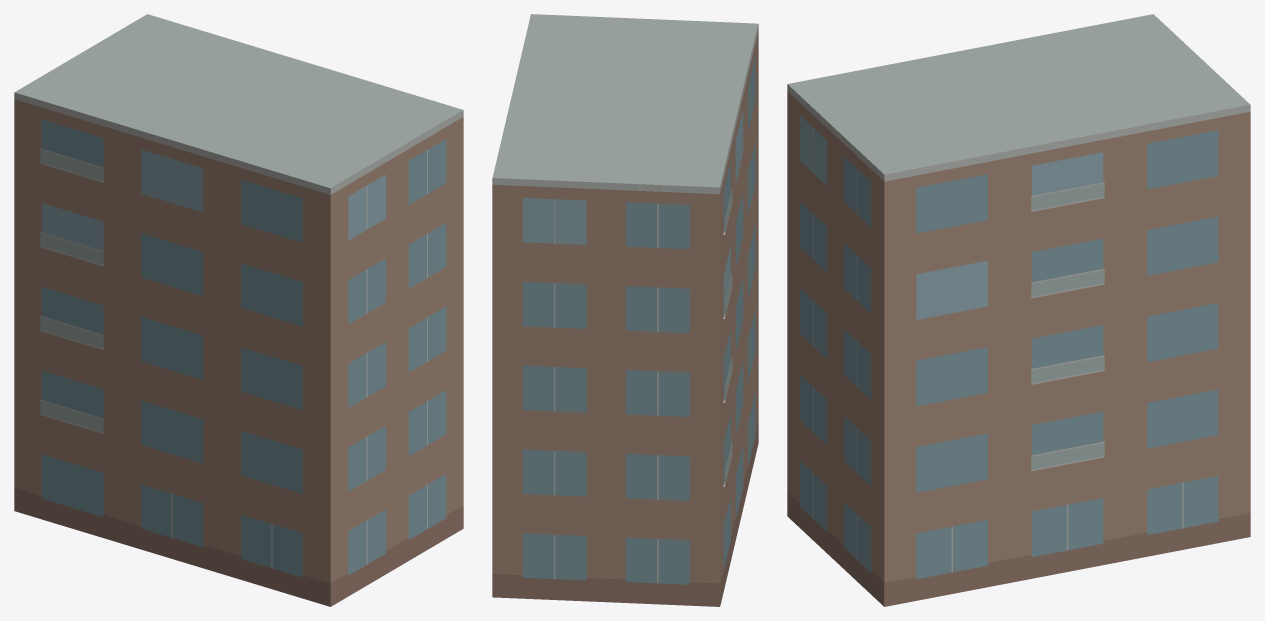
The model's file is residential-6fdd383c-b696-456e-a7f0-41edce682154.glb.
The picture shows the model from 3 angles, left to right: view 1: azimuth 30°, elevation 25°; view 2: azimuth 150°, elevation 25°; view 3: azimuth 270°, elevation 25°; orthographic projection. The views are drawn at different scales.
Parts seen in each view (by area): view 1: residential-6fdd383c-b696-456e-a7f0-41edce682154.tmp; view 2: residential-6fdd383c-b696-456e-a7f0-41edce682154.tmp; view 3: residential-6fdd383c-b696-456e-a7f0-41edce682154.tmp.
Part boxes in pixels (bbox=[...]): residential-6fdd383c-b696-456e-a7f0-41edce682154.tmp: bbox=[14, 14, 463, 606]; residential-6fdd383c-b696-456e-a7f0-41edce682154.tmp: bbox=[492, 14, 758, 606]; residential-6fdd383c-b696-456e-a7f0-41edce682154.tmp: bbox=[787, 14, 1250, 606].
Size of the model in its own units: 12.17 by 15.25 by 14.83.
